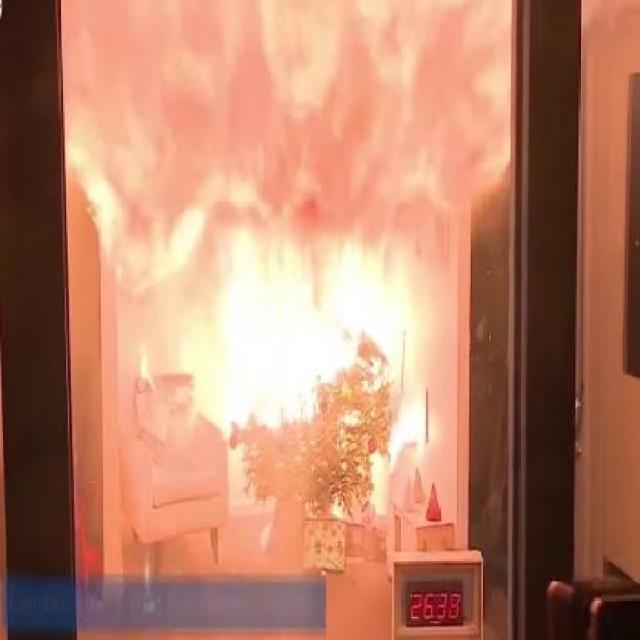fire: (236, 178, 414, 408)
